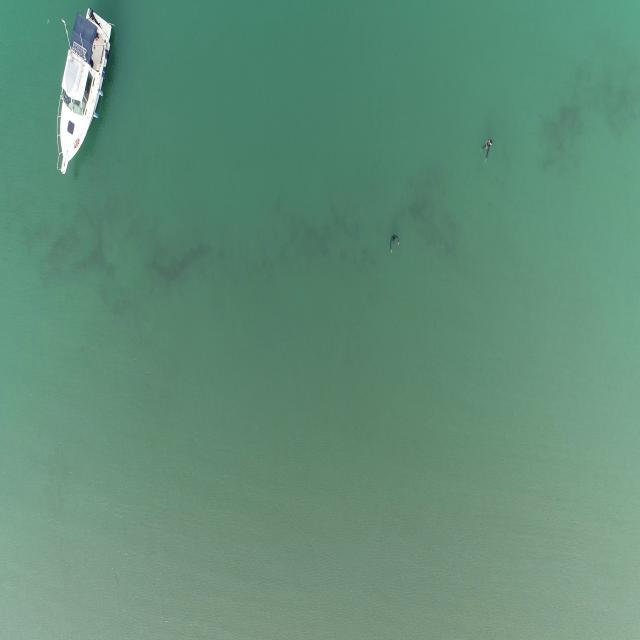boat: (54, 8, 115, 175)
person: (482, 137, 494, 166), (387, 233, 401, 255)
